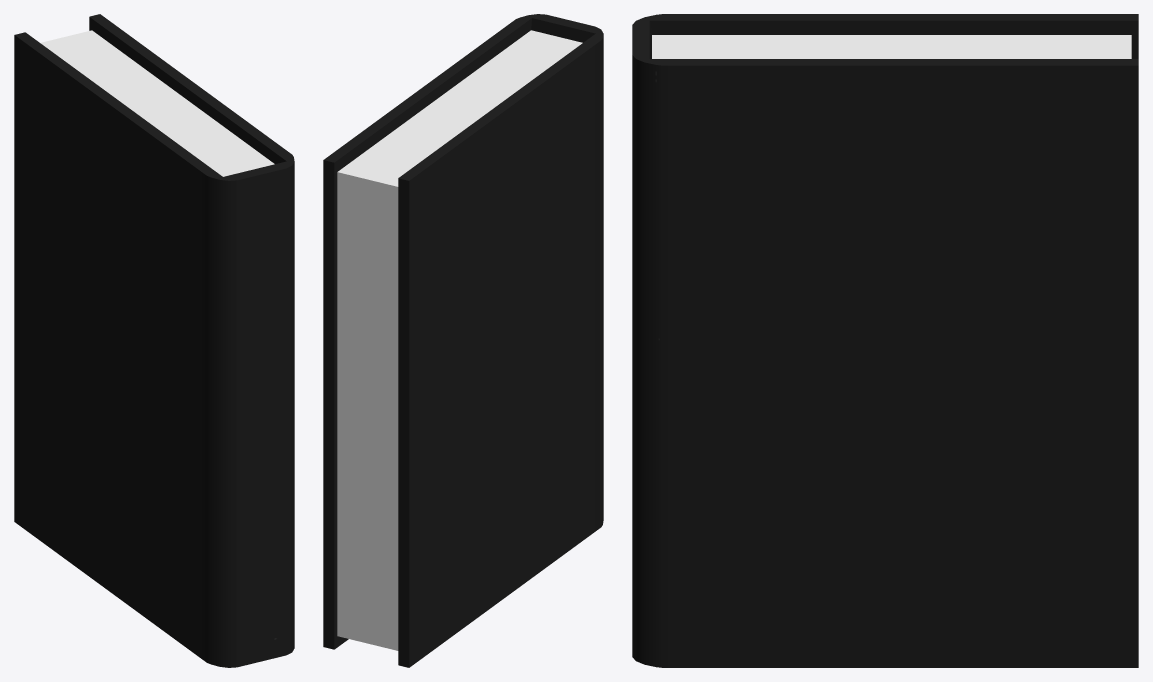
The model's file is LibroNegro.fbx.
3 renders of one model, left to right at view 1: azimuth 30°, elevation 25°; view 2: azimuth 150°, elevation 25°; view 3: azimuth 270°, elevation 25°, orthographic. The views are drawn at different scales.
Visible parts, largest first — view 1: libro; view 2: libro; view 3: libro.
Part boxes in pixels (x1,y1,x2,y2): libro: (14,14,294,667); libro: (323,14,603,667); libro: (632,14,1138,667).
Size of the model in its own units: 4.64 by 25.17 by 19.18.
